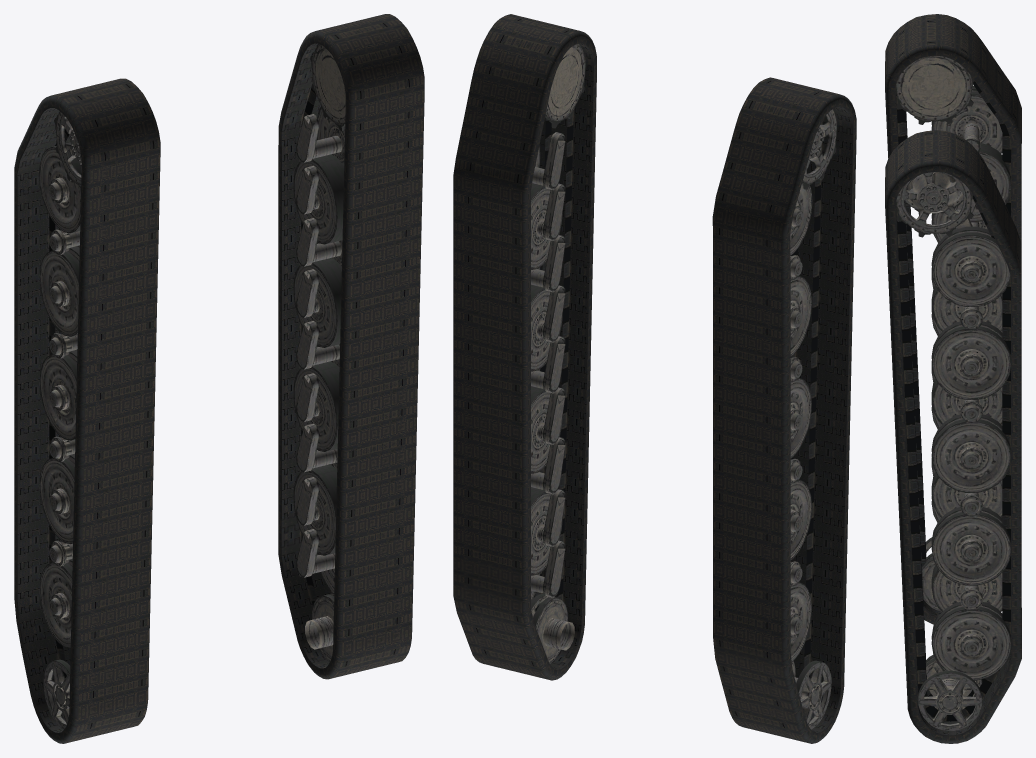
The model's file is Chassis.glb.
The picture shows the model from 3 angles, left to right: view 1: azimuth 30°, elevation 25°; view 2: azimuth 150°, elevation 25°; view 3: azimuth 270°, elevation 25°; orthographic projection. The views are drawn at different scales.
Parts seen in each view (by area): view 1: set_0_group_0, set_1_group_0, set_3_group_0, set_2_group_0; view 2: set_0_group_0, set_1_group_0, set_3_group_0, set_2_group_0; view 3: set_3_group_0, set_1_group_0, set_0_group_0, set_2_group_0.
Boxes of the visible parts, x1,y1,x2,y2 form: set_0_group_0: (14, 78, 160, 743); set_1_group_0: (278, 14, 424, 679); set_3_group_0: (293, 43, 345, 662); set_2_group_0: (39, 111, 81, 729); set_0_group_0: (712, 77, 856, 743); set_1_group_0: (453, 14, 596, 680); set_3_group_0: (531, 44, 585, 663); set_2_group_0: (790, 109, 836, 729); set_3_group_0: (896, 172, 1011, 730); set_1_group_0: (885, 130, 1021, 743); set_0_group_0: (885, 14, 1021, 624); set_2_group_0: (896, 56, 1010, 611).
Size of the model in its own units: 3.6 by 6.55 by 1.39.
4 materials, 4 textured.
